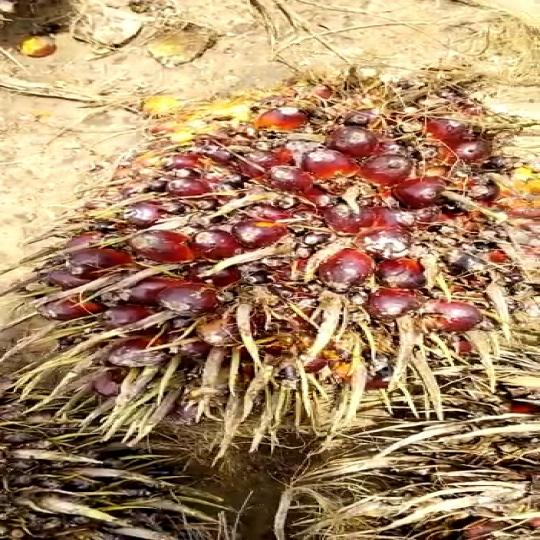kurang masak: (53, 61, 540, 437)
